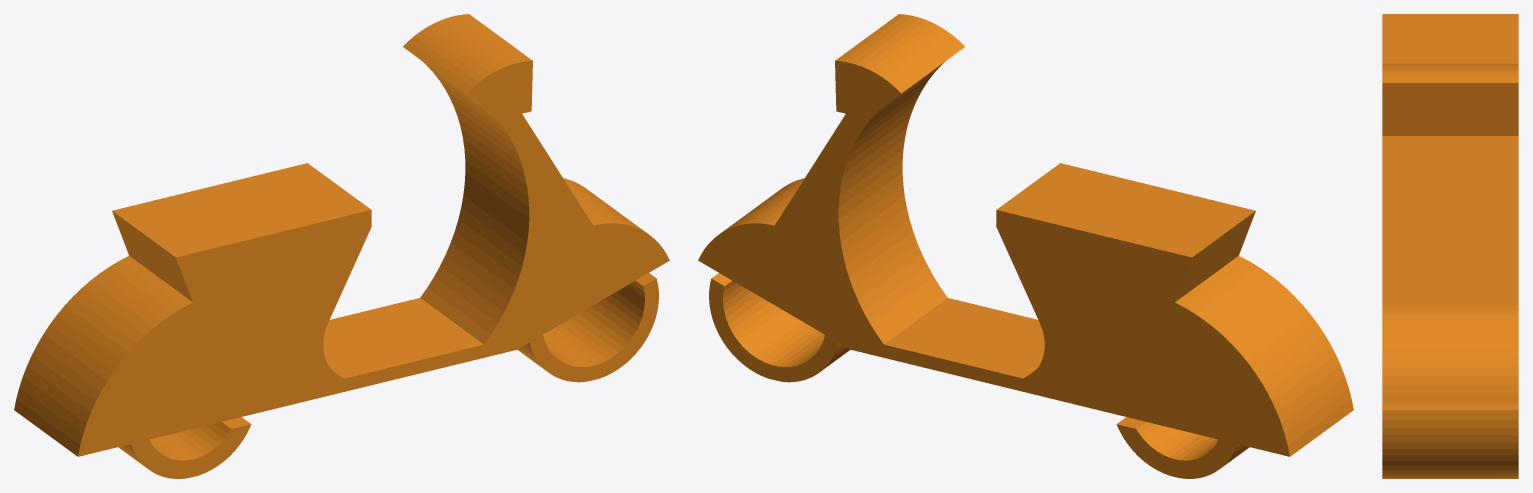
3 renders of one model, left to right at view 1: azimuth 30°, elevation 25°; view 2: azimuth 150°, elevation 25°; view 3: azimuth 270°, elevation 25°, orthographic. The views are drawn at different scales.
Visible parts, largest first — view 1: edm s1.stl; view 2: edm s1.stl; view 3: edm s1.stl.
Boxes of the visible parts, x1,y1,x2,y2 form: edm s1.stl: [14, 14, 669, 478]; edm s1.stl: [698, 14, 1353, 478]; edm s1.stl: [1382, 14, 1518, 478].
Bounding box in the file's own units: 64.15 × 34.77 × 12.
